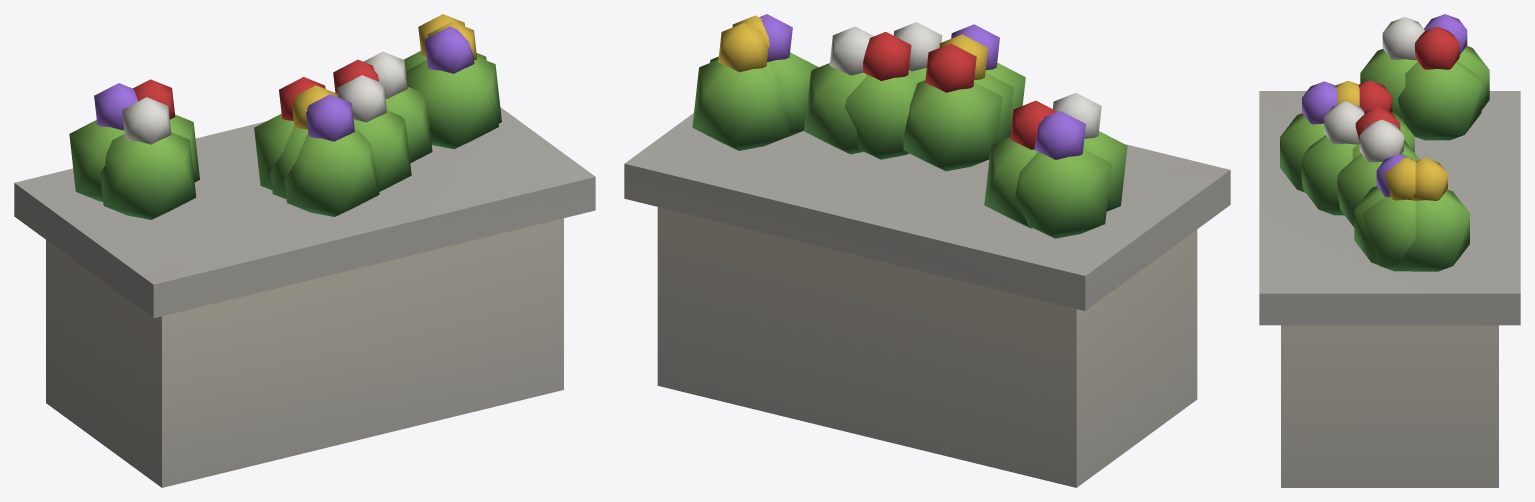
Rendered from planter.glb.
3 renders of one model, left to right at view 1: azimuth 30°, elevation 25°; view 2: azimuth 150°, elevation 25°; view 3: azimuth 270°, elevation 25°, orthographic. The views are drawn at different scales.
Parts seen in each view (by area): view 1: Planter; view 2: Planter; view 3: Planter.
Boxes of the visible parts, left/top/right/bottom form: Planter: left=14, top=14, right=595, bottom=487; Planter: left=624, top=14, right=1230, bottom=487; Planter: left=1259, top=14, right=1520, bottom=487.
Size of the model in its own units: 1.1 by 0.785 by 0.6.
